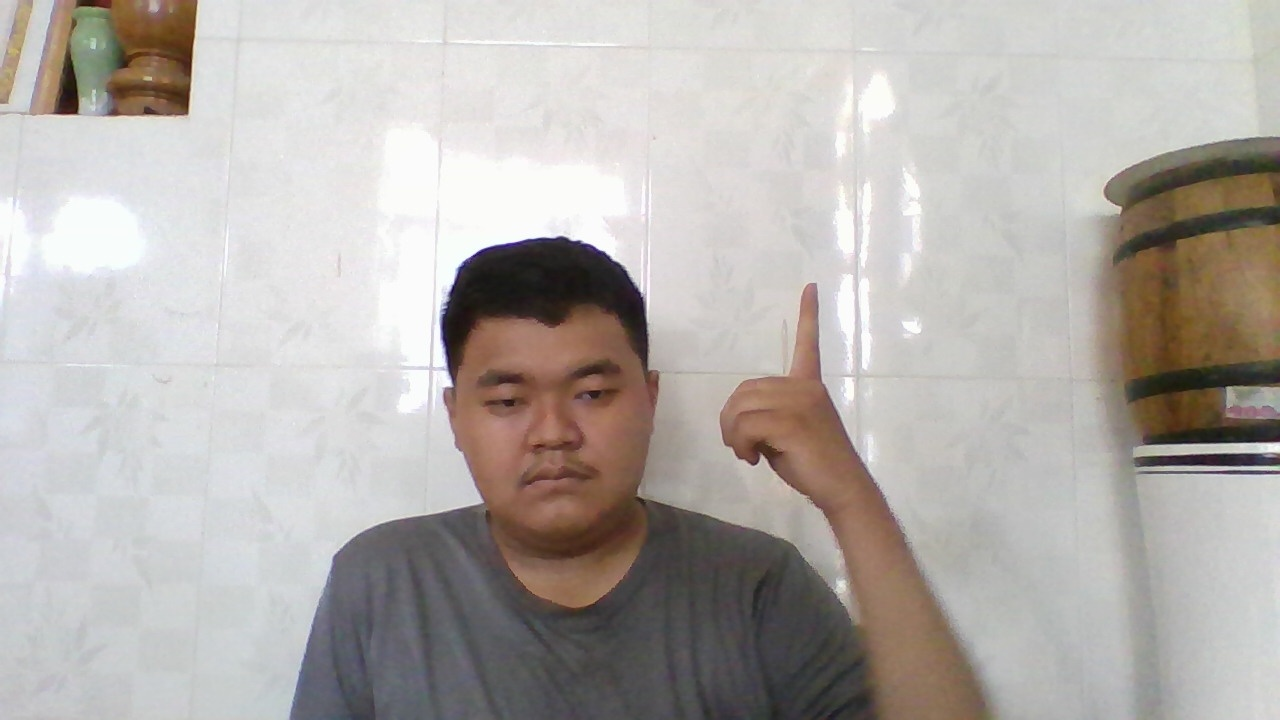D: (714, 270, 863, 511)
